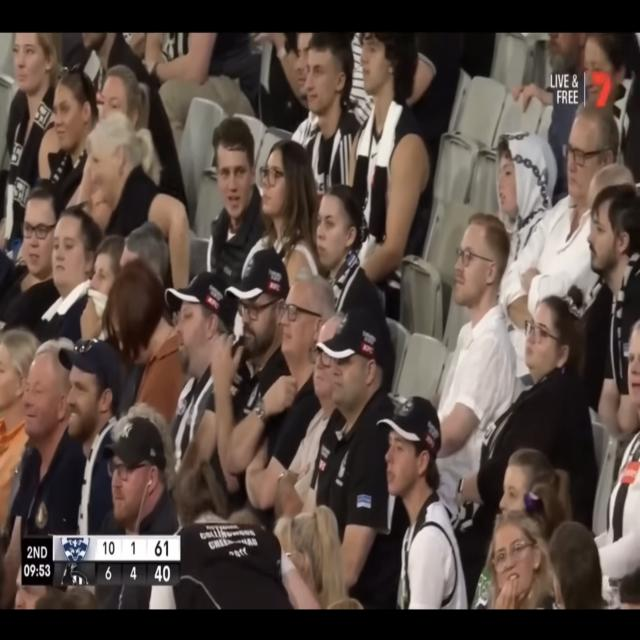crowd: (0, 29, 636, 610)
